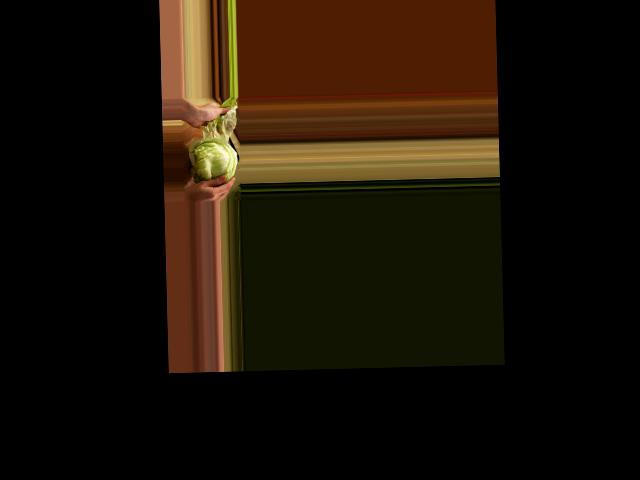lettuce: (185, 125, 239, 187)
